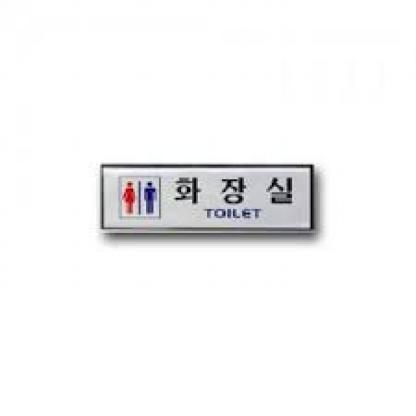toilet: (123, 176, 160, 216)
